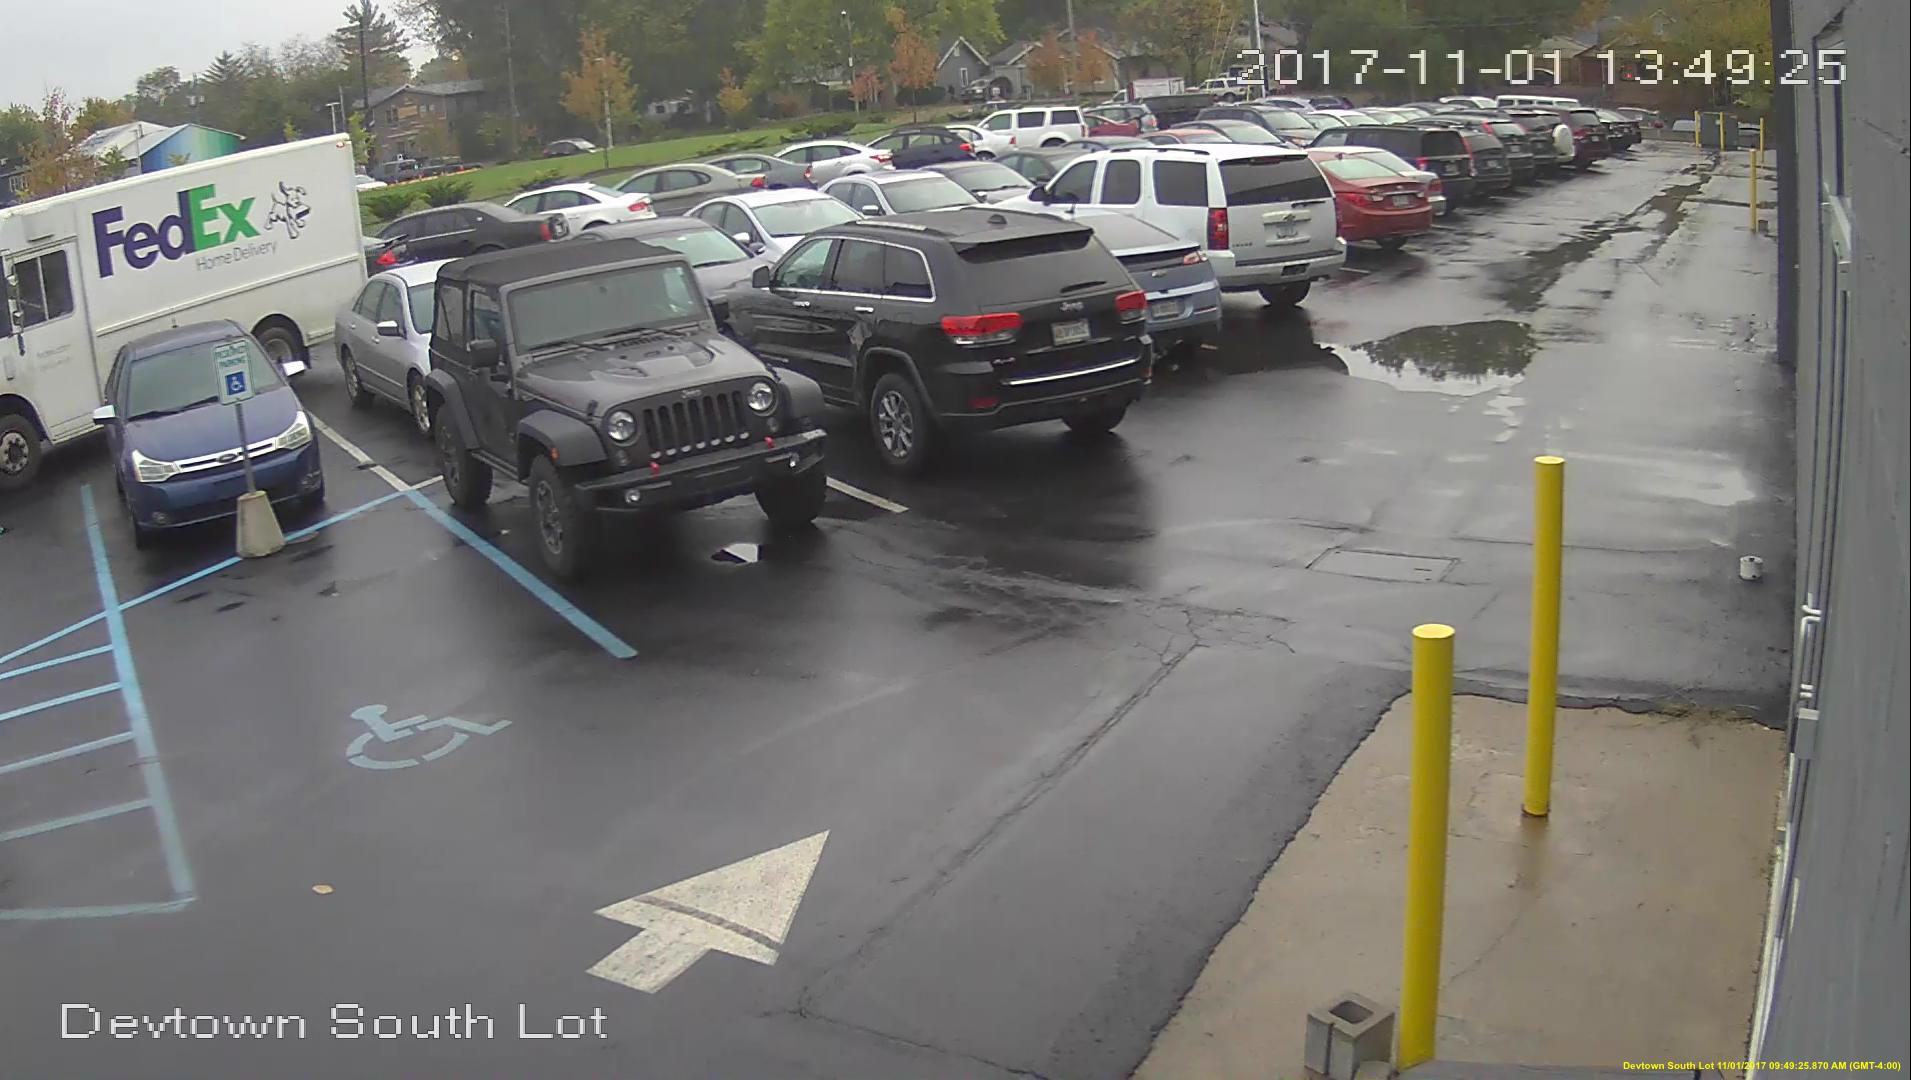fedex_truck: (1, 138, 352, 479)
